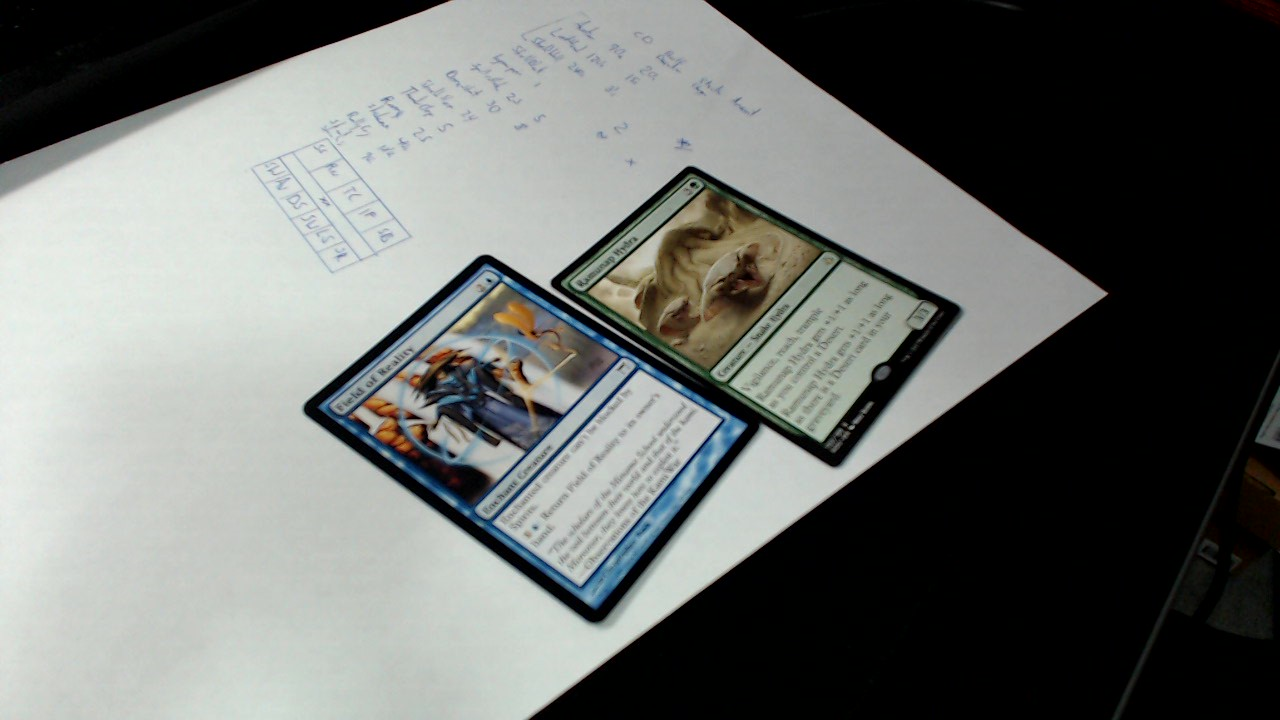MTG Card: (295, 249, 763, 626), (549, 159, 971, 472)
